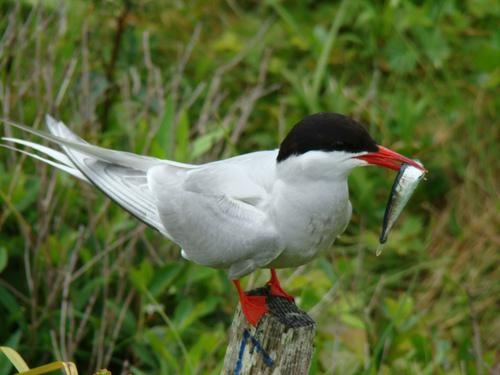bird: (11, 111, 415, 320)
